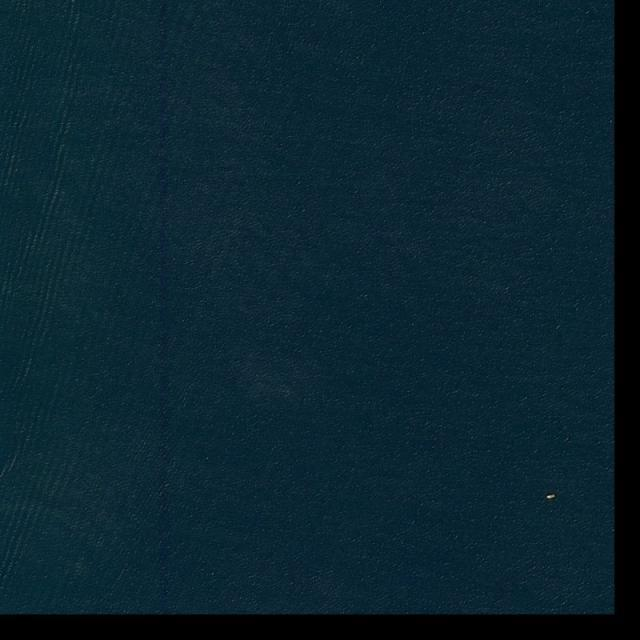ship: (546, 494, 556, 499)
